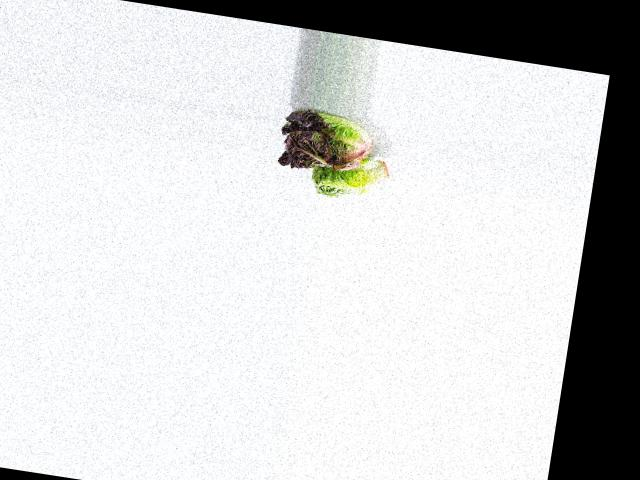lettuce: (307, 147, 394, 206)
